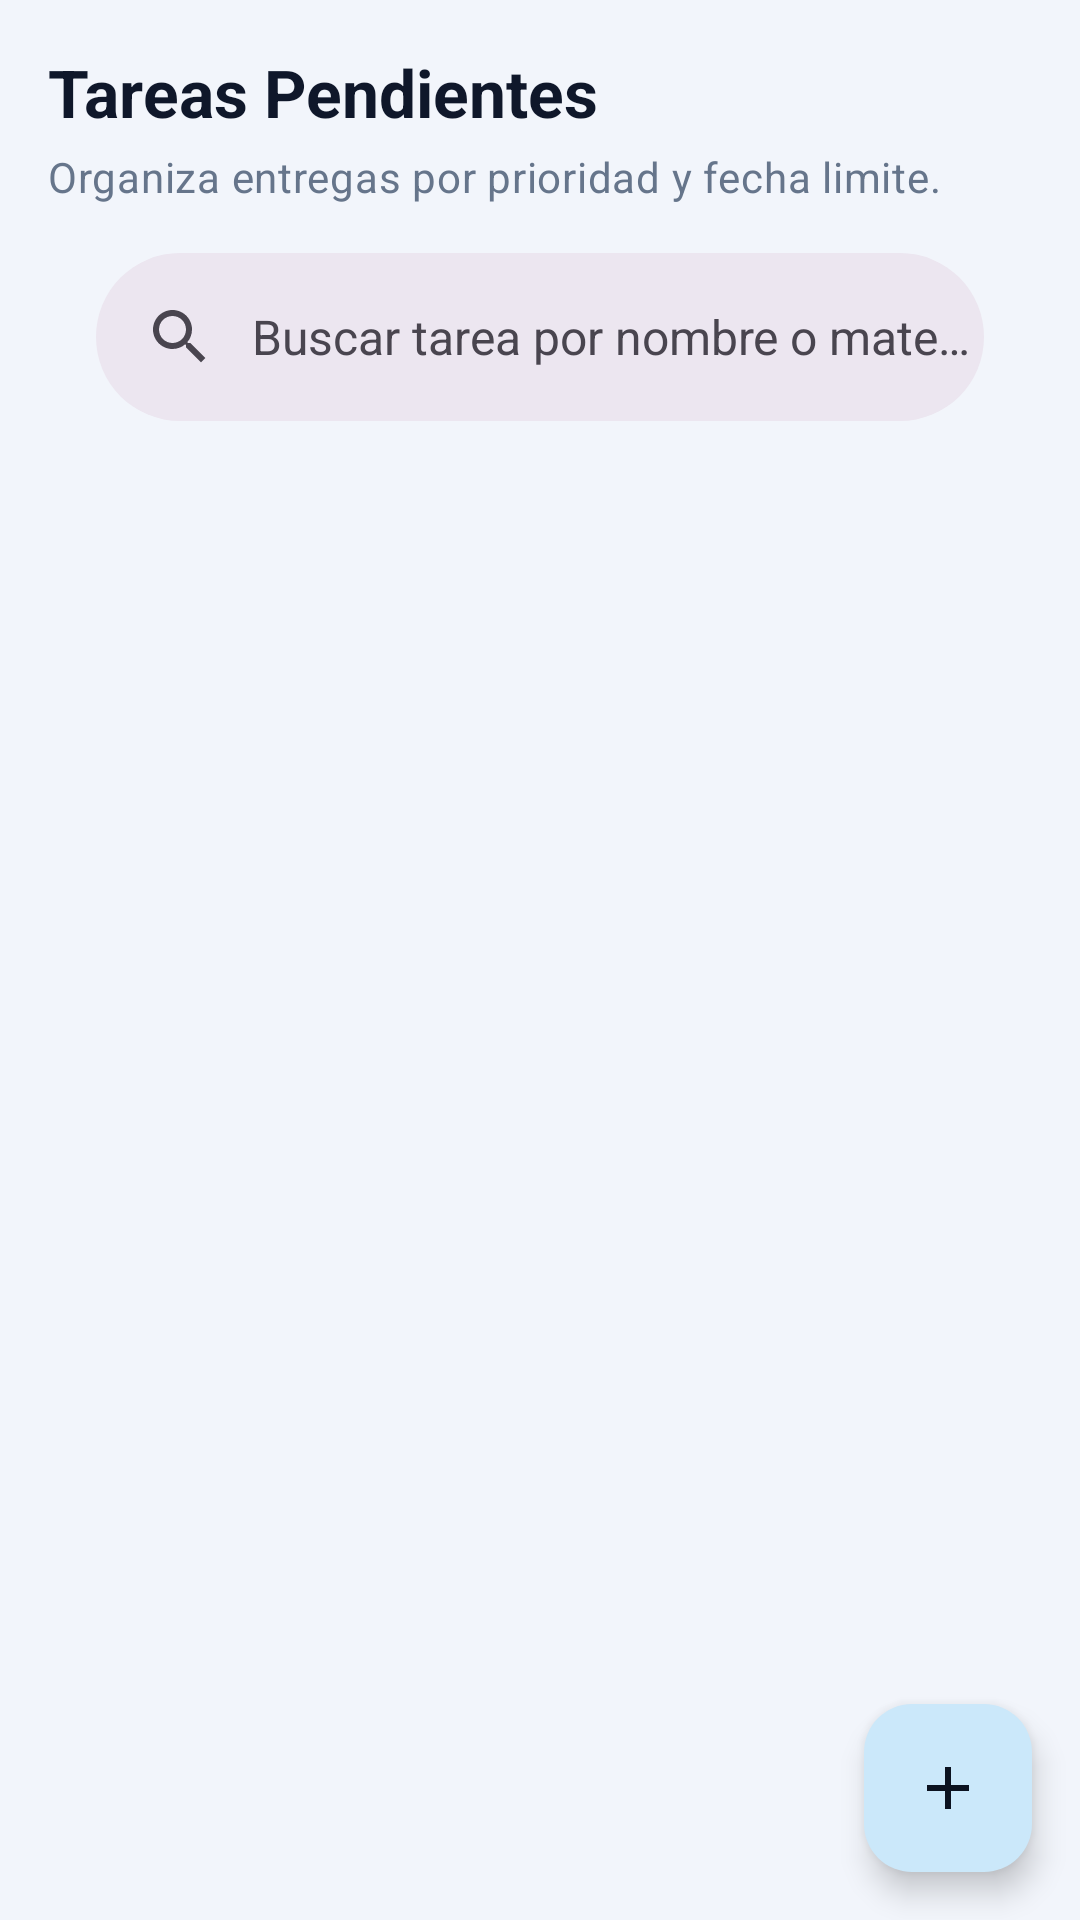

Locate icon controls on the screen. Image size 1080×1920, boxes as [x1, y1, x2, y2].
Agregar tarea: [864, 1704, 1032, 1872]
